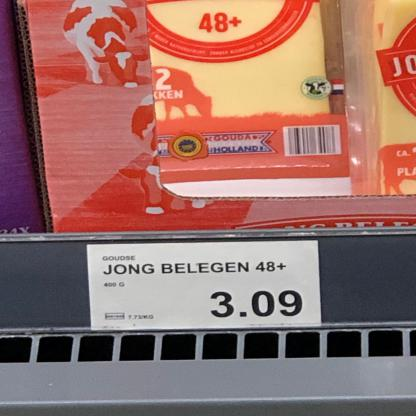prtg: (88, 242, 322, 331)
